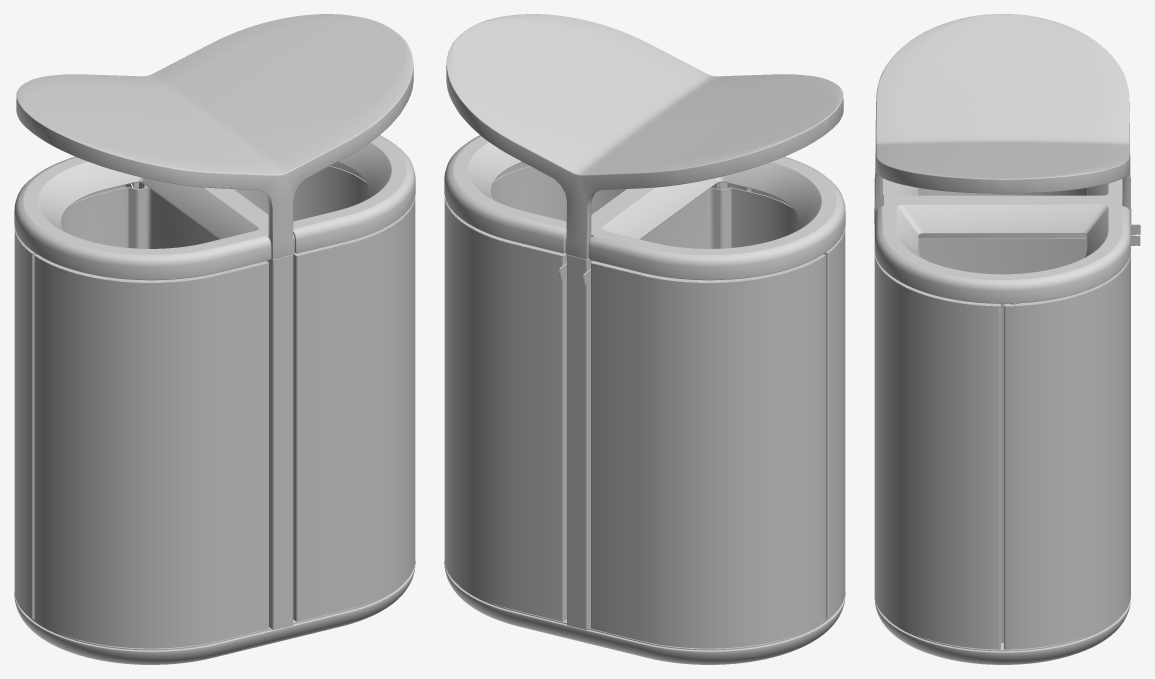
The model's file is Tonyo_Receptacle_60_Gallon.glb.
3 renders of one model, left to right at view 1: azimuth 30°, elevation 25°; view 2: azimuth 150°, elevation 25°; view 3: azimuth 270°, elevation 25°, orthographic. The views are drawn at different scales.
Visible parts, largest first — view 1: Tonyo_Receptacle_60_Gallon; view 2: Tonyo_Receptacle_60_Gallon; view 3: Tonyo_Receptacle_60_Gallon.
Part boxes in pixels (x1,y1,x2,y2): Tonyo_Receptacle_60_Gallon: [14, 14, 415, 664]; Tonyo_Receptacle_60_Gallon: [444, 14, 845, 664]; Tonyo_Receptacle_60_Gallon: [874, 14, 1140, 664].
Bounding box in the file's own units: 0.9021 × 1.24 × 0.6075.
1 material, 1 textured.
